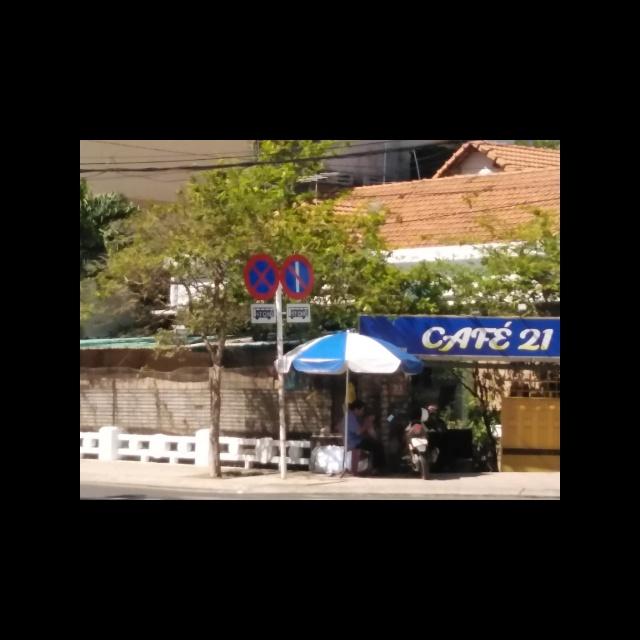Cấm dừng xe và đỗ xe: (243, 252, 278, 304)
Cấm đỗ xe ngày lẻ: (278, 252, 314, 299)
